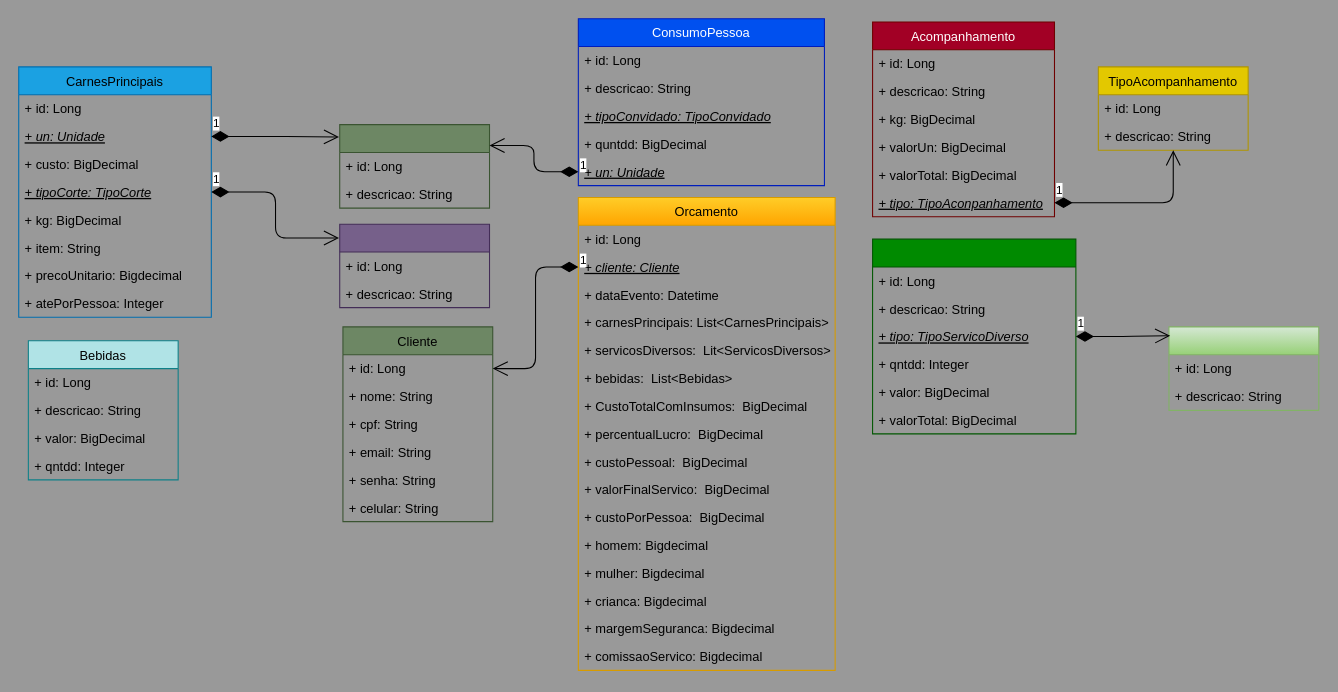
Image size: 1338x692. Some labels were removed from this diagram. Each missing label, with the box of its shape:
ServicosDiversos: (872, 238, 1076, 434)
TipoCorte: (339, 223, 490, 308)
TipoServicoDiverso: (1168, 326, 1319, 410)
Unidade: (339, 124, 490, 208)
